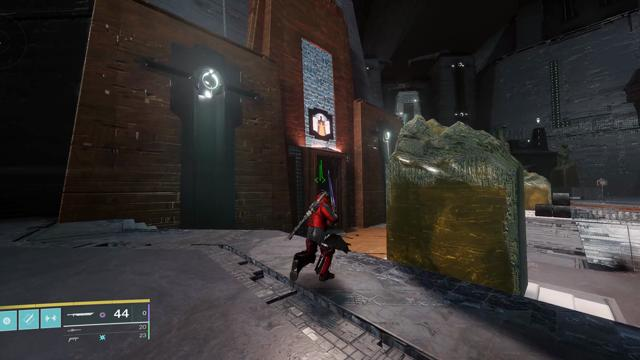worship: (313, 114, 330, 136)
